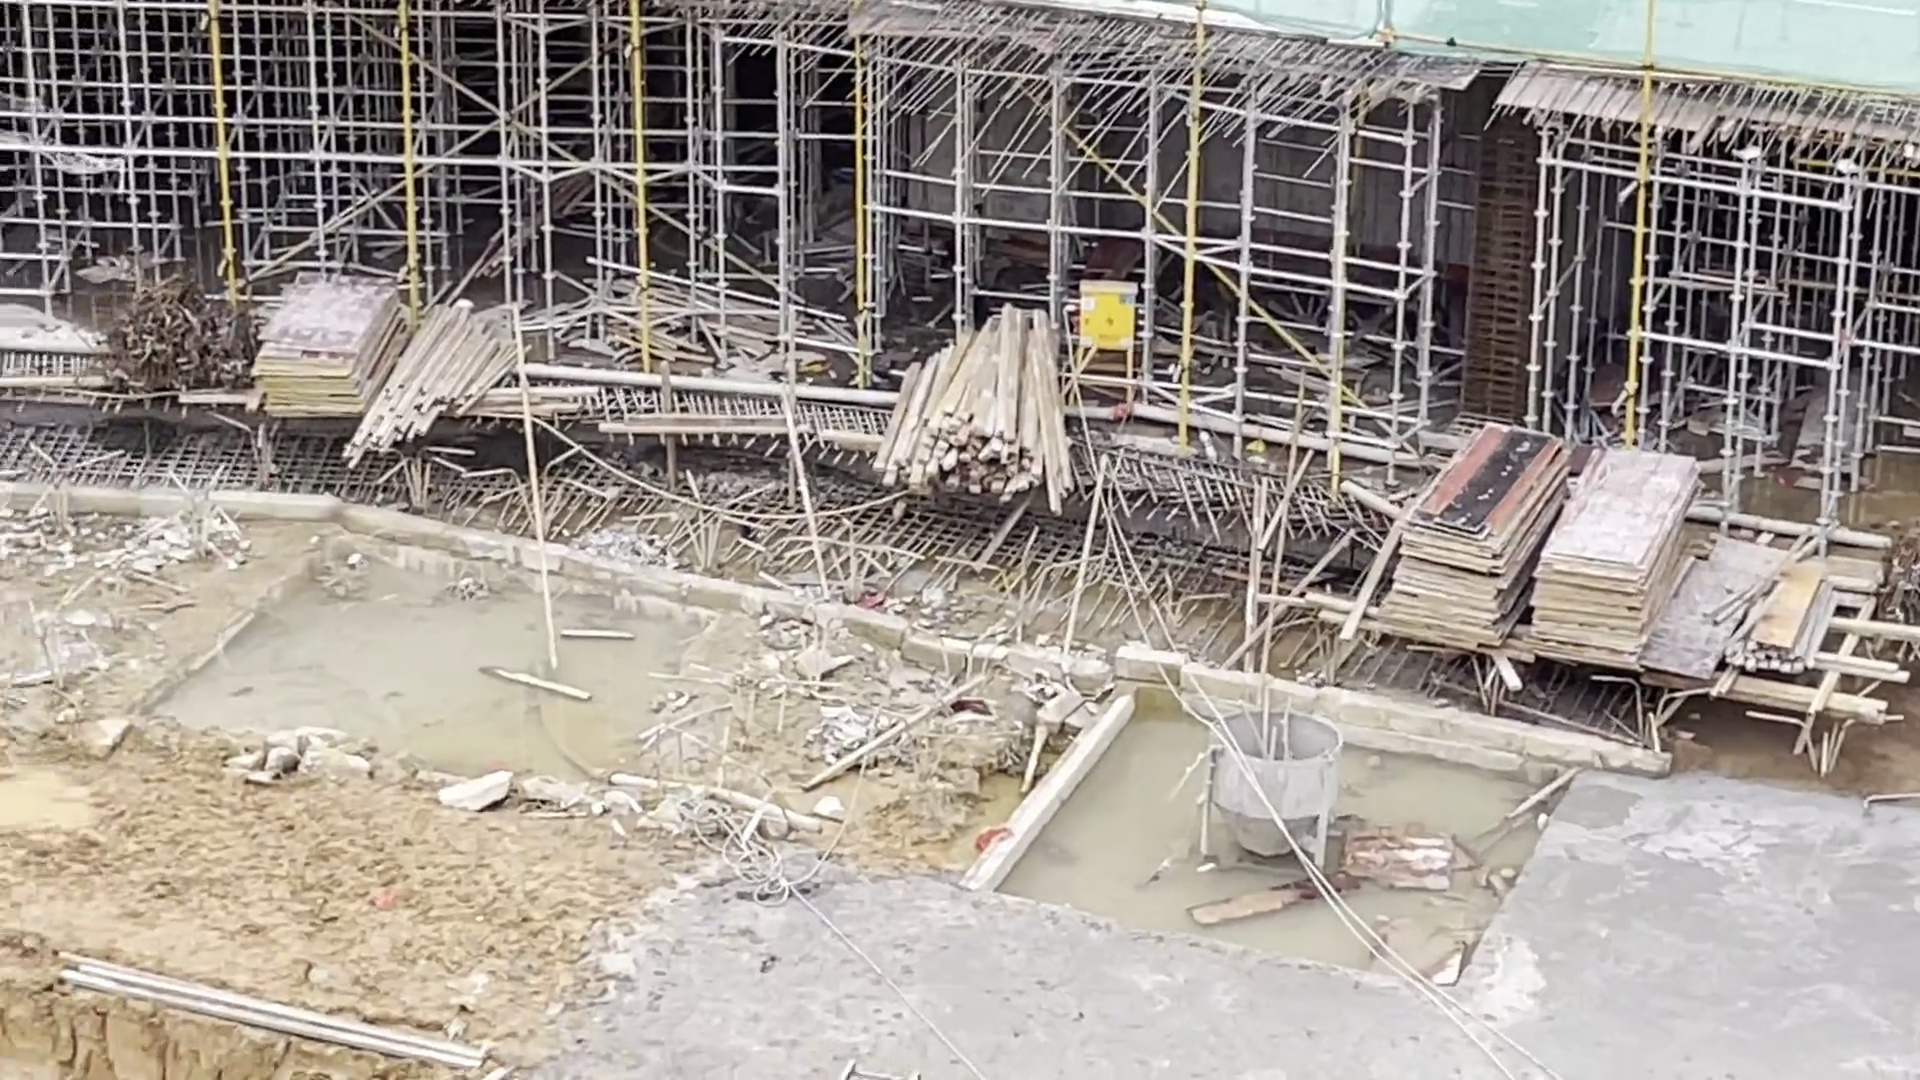board: (1364, 423, 1571, 645), (1531, 454, 1708, 655), (243, 272, 407, 417)
ebox: (1075, 276, 1135, 415)
wood: (886, 303, 1065, 510)
